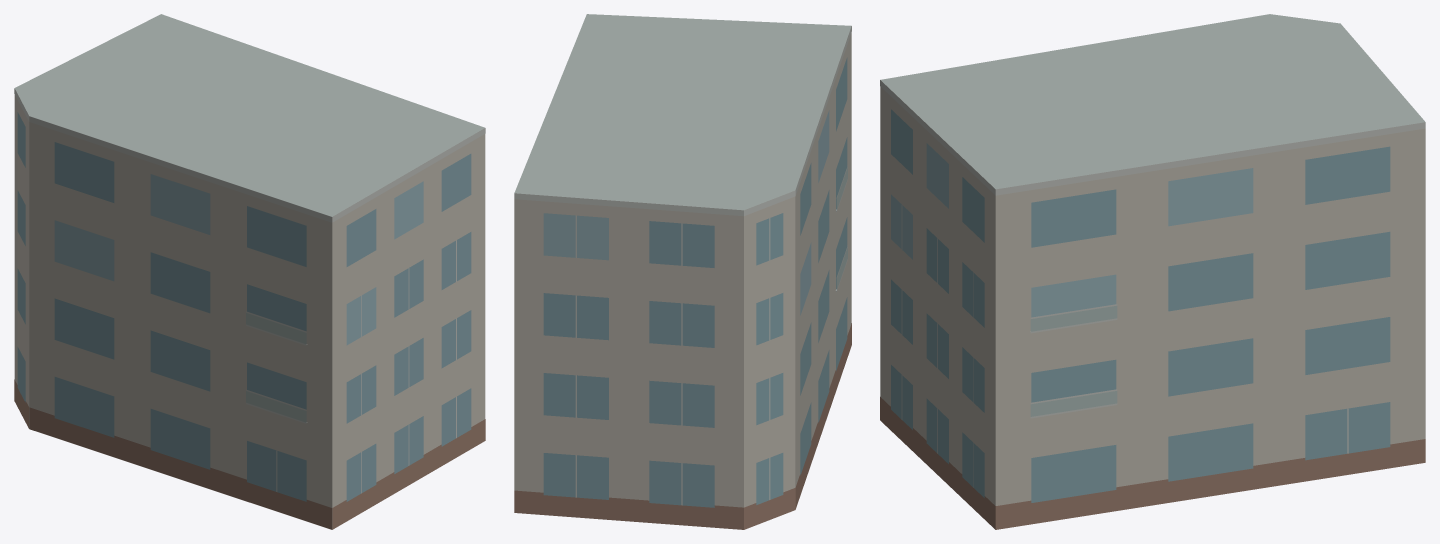
The model's file is survey-upis-32850312.glb.
The picture shows the model from 3 angles, left to right: view 1: azimuth 30°, elevation 25°; view 2: azimuth 150°, elevation 25°; view 3: azimuth 270°, elevation 25°; orthographic projection. The views are drawn at different scales.
Parts seen in each view (by area): view 1: survey-upis-32850312.tmp; view 2: survey-upis-32850312.tmp; view 3: survey-upis-32850312.tmp.
Part boxes in pixels (x1=…): survey-upis-32850312.tmp: x1=14, y1=14, x2=485, y2=529; survey-upis-32850312.tmp: x1=514, y1=14, x2=851, y2=529; survey-upis-32850312.tmp: x1=880, y1=14, x2=1425, y2=529.
Bounding box in the file's own units: 14.53 × 13.15 × 19.1.
